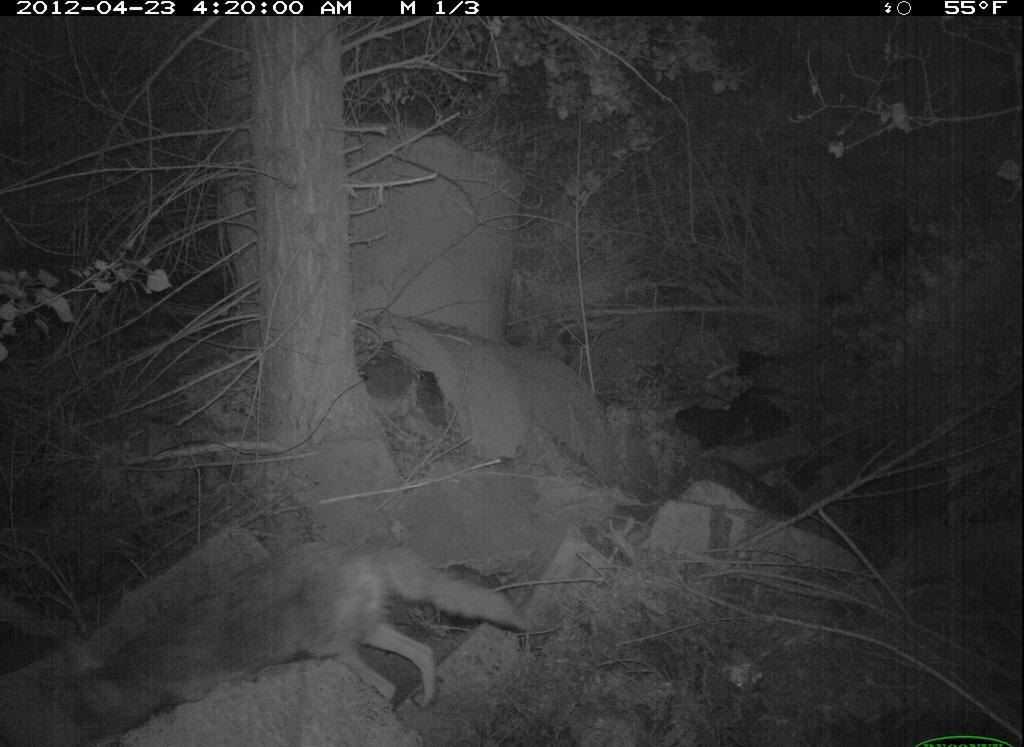coyote: (39, 536, 530, 743)
